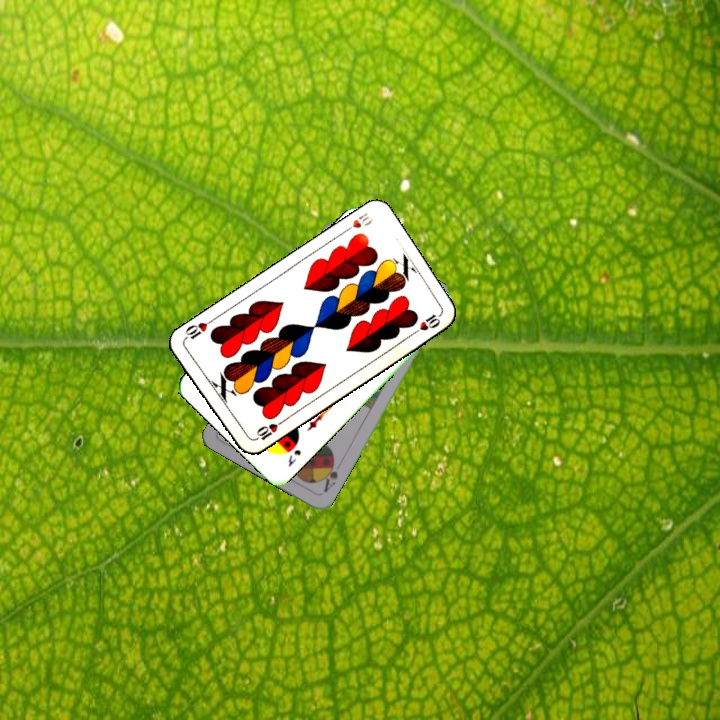H10: (338, 209, 376, 236), (249, 417, 286, 443)
SA: (318, 456, 341, 495)
SK: (284, 445, 304, 469)
